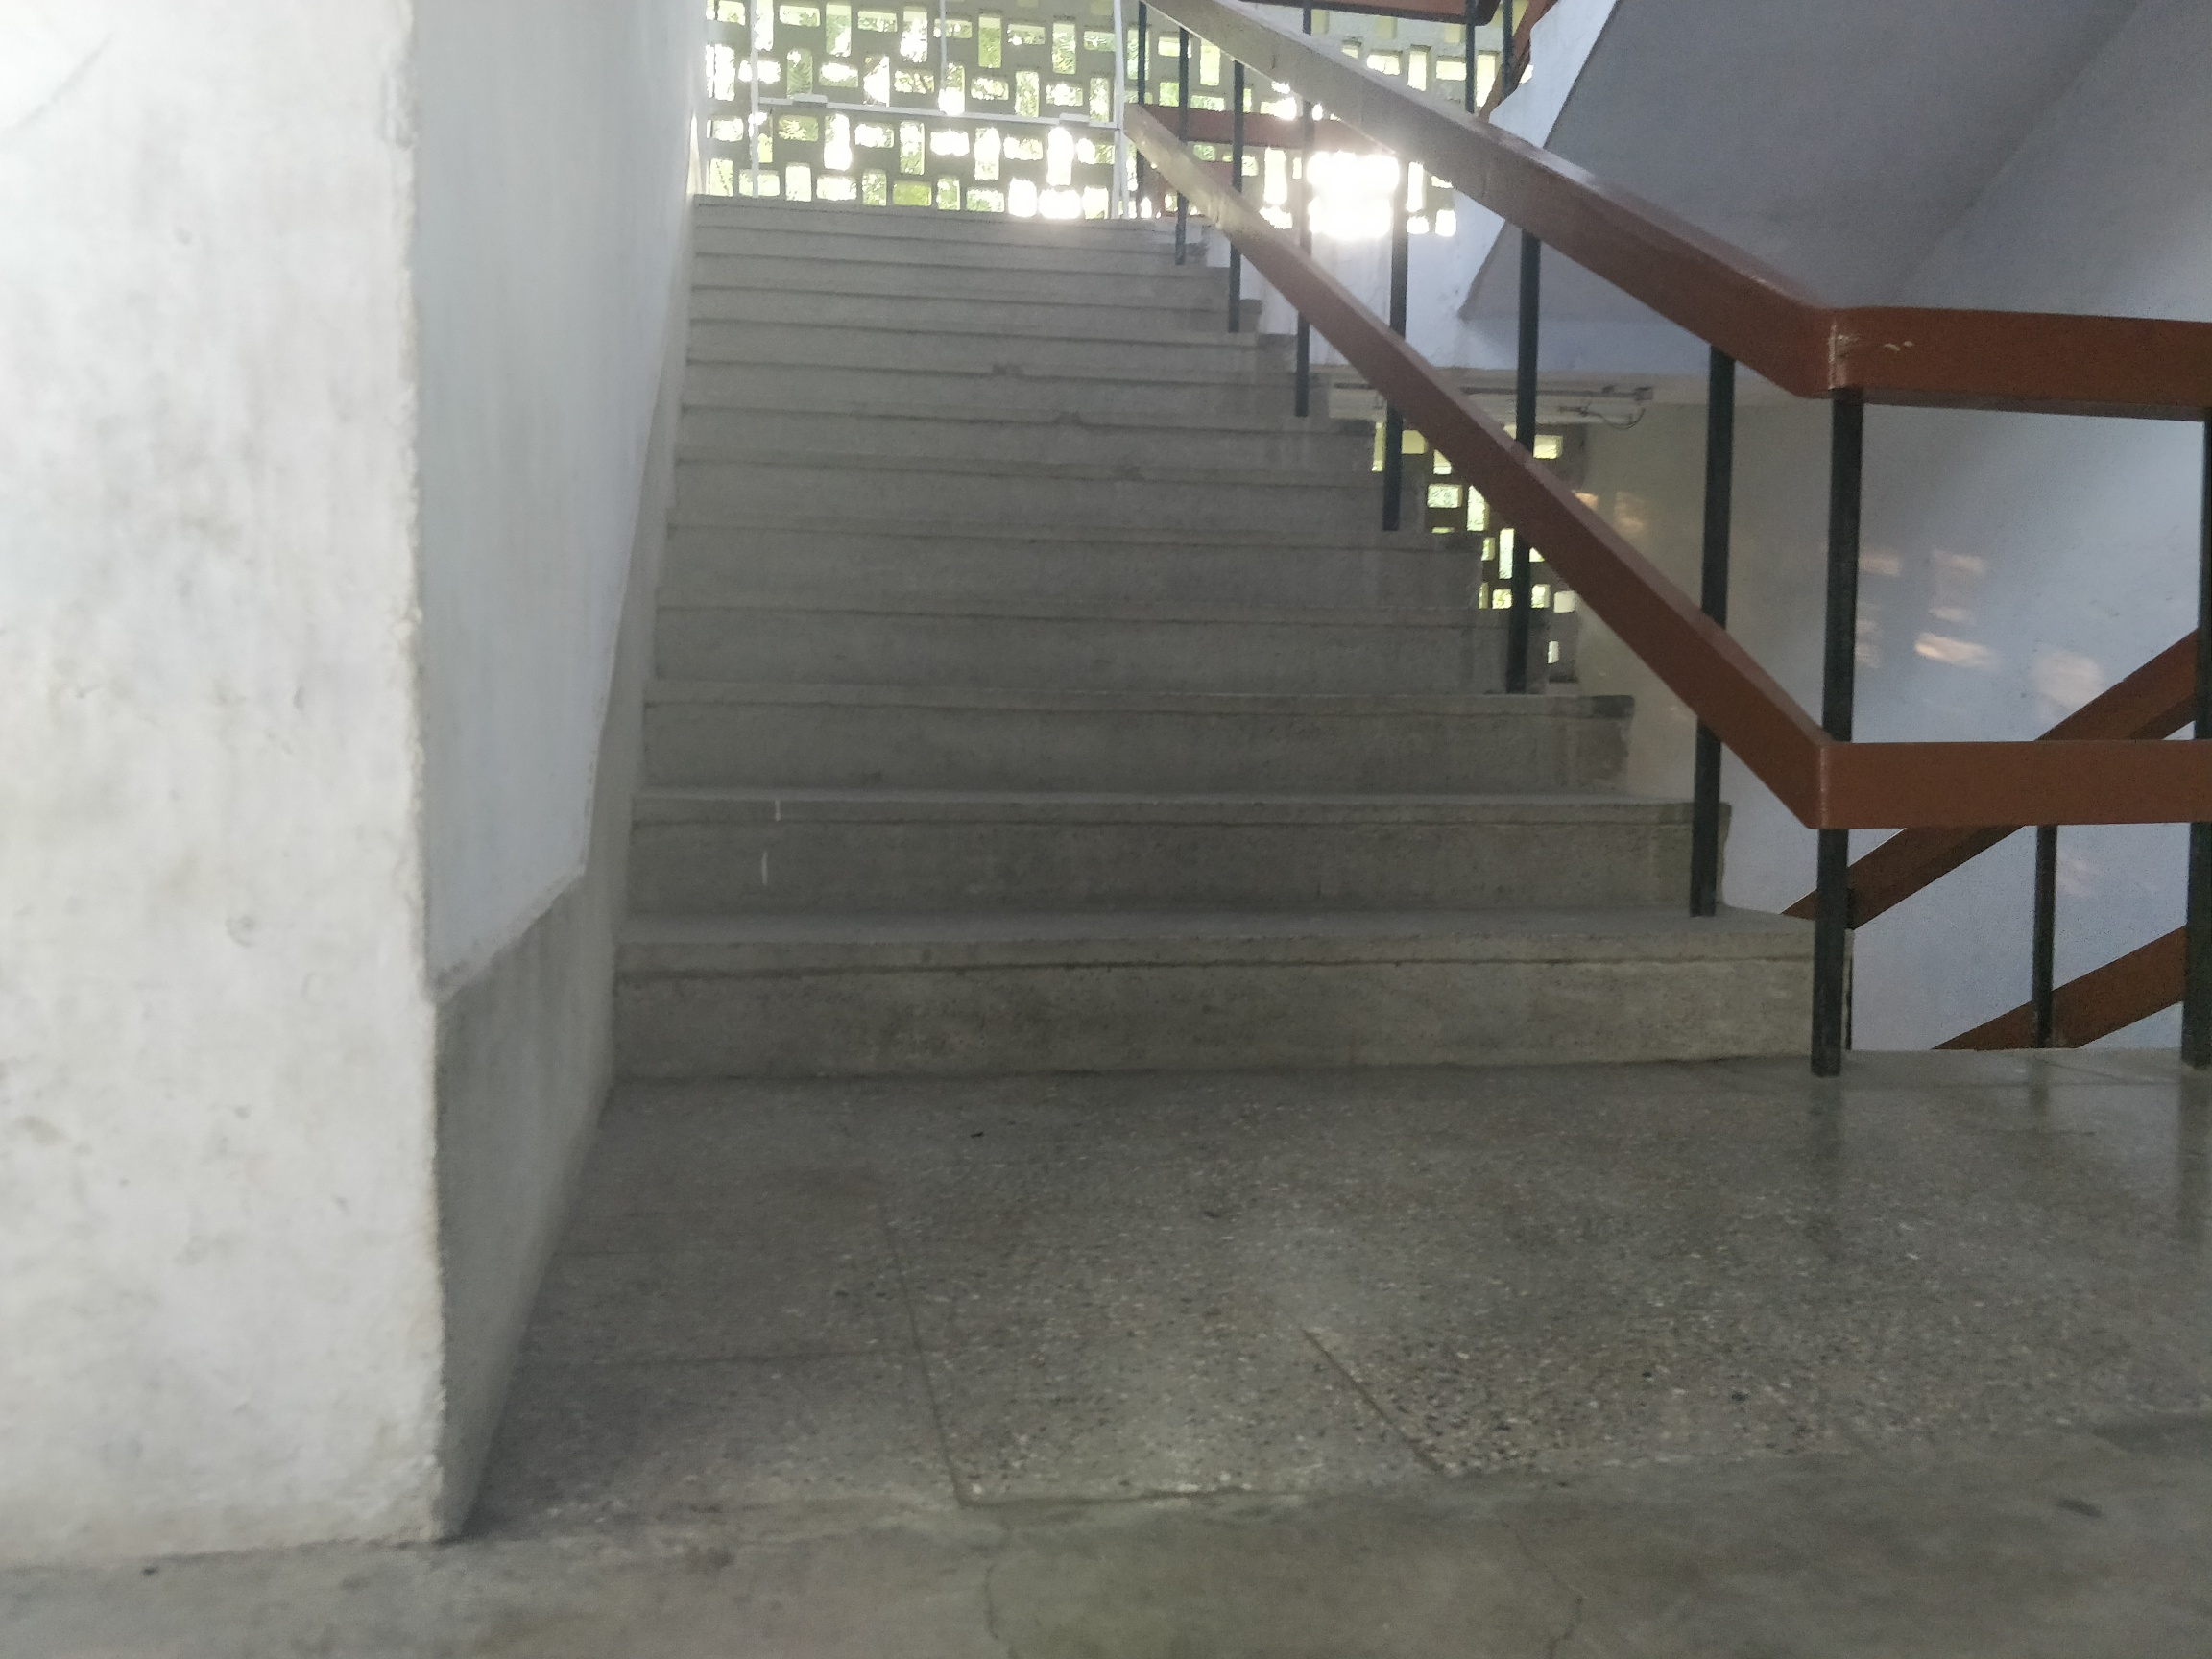stairs_up: (617, 178, 1839, 1054)
